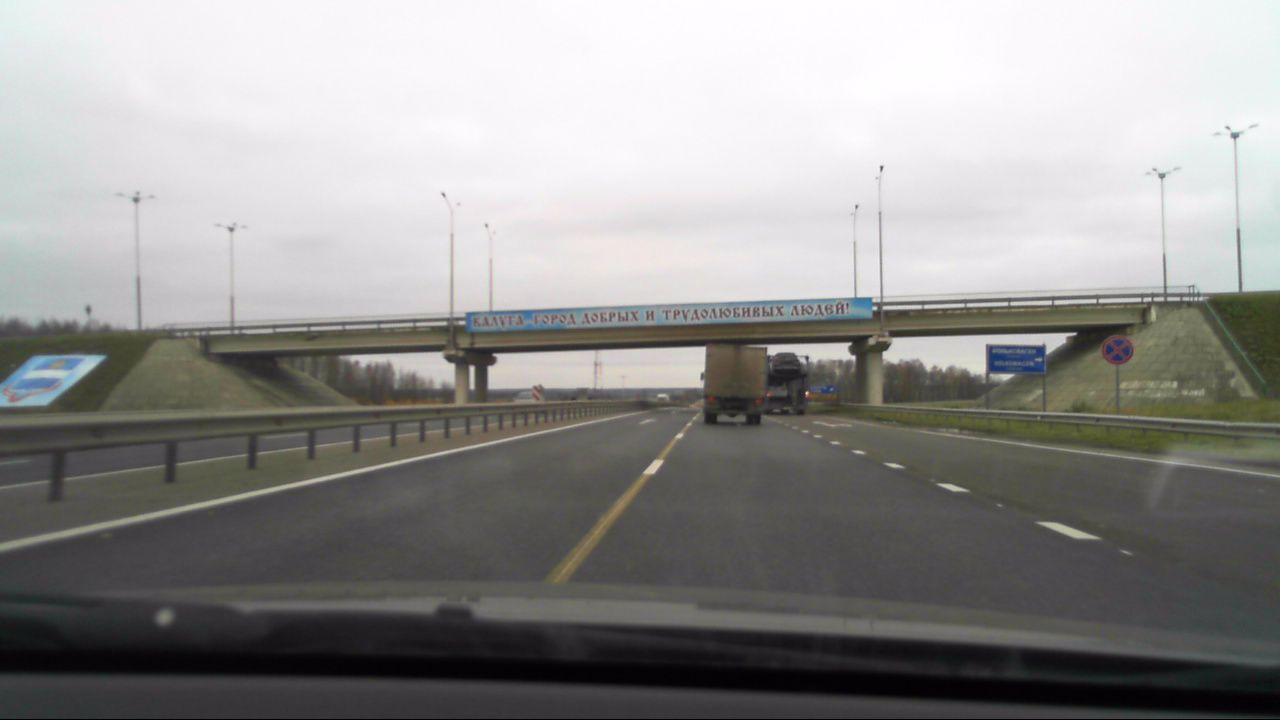No Parking: (1102, 336, 1132, 369)
